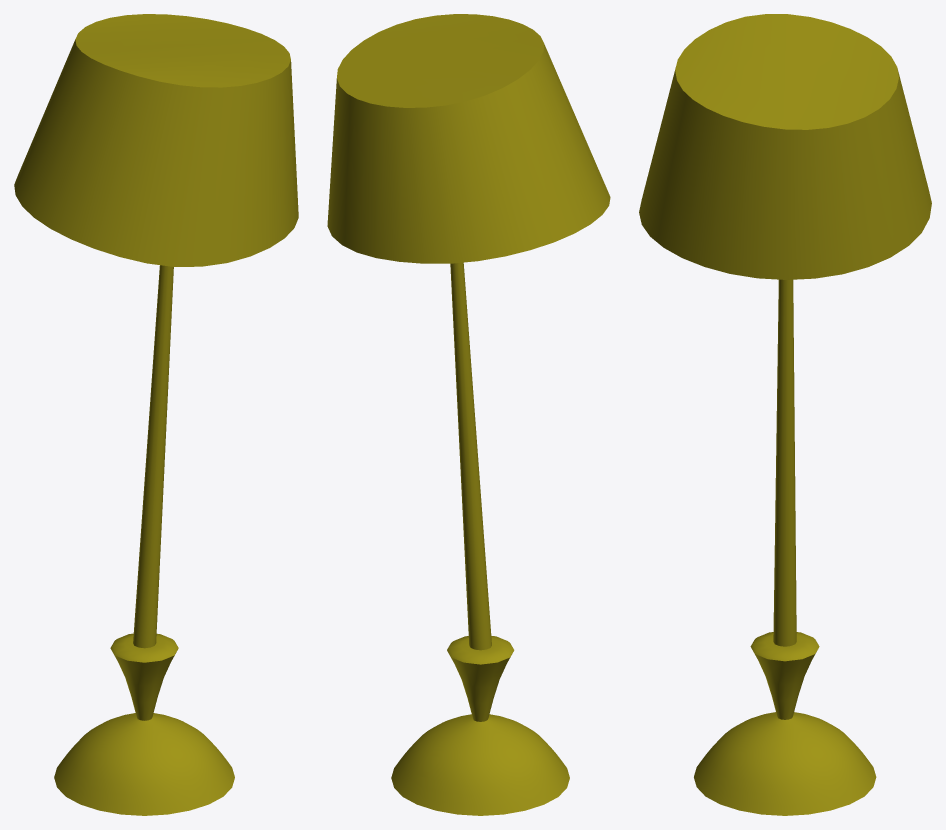
Rendered from FloorLamp.FBX.
3 views of the same model, side by side, from view 1: azimuth 30°, elevation 25°; view 2: azimuth 150°, elevation 25°; view 3: azimuth 270°, elevation 25° (orthographic). The views are drawn at different scales.
Visible parts, largest first — view 1: LampShade, Base, Stand; view 2: LampShade, Base, Stand; view 3: LampShade, Base, Stand.
Part boxes in pixels (left/top/right/bottom): LampShade: left=14, top=14, right=298, bottom=266; Base: left=54, top=713, right=234, bottom=815; Stand: left=110, top=265, right=178, bottom=720; LampShade: left=327, top=14, right=610, bottom=263; Base: left=391, top=714, right=569, bottom=815; Stand: left=447, top=262, right=514, bottom=721; LampShade: left=639, top=14, right=931, bottom=279; Base: left=694, top=712, right=876, bottom=815; Stand: left=750, top=279, right=819, bottom=719.
Bounding box in the file's own units: 75.51 × 215 × 77.13.
